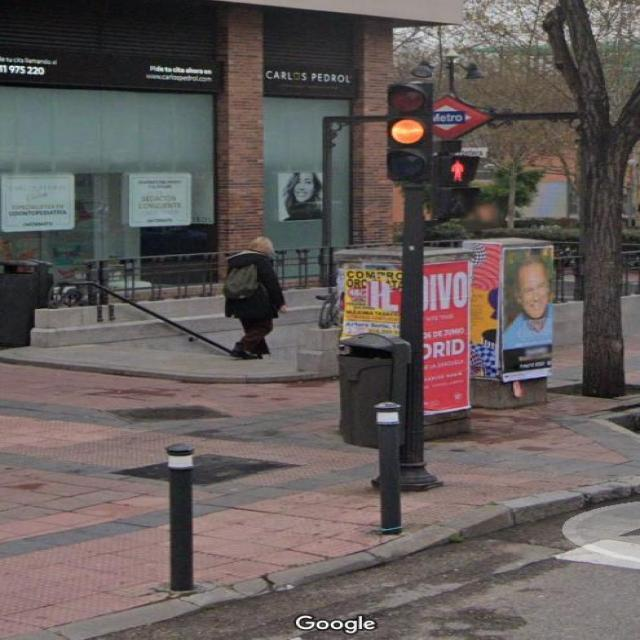yellow_light: (286, 143, 420, 506)
